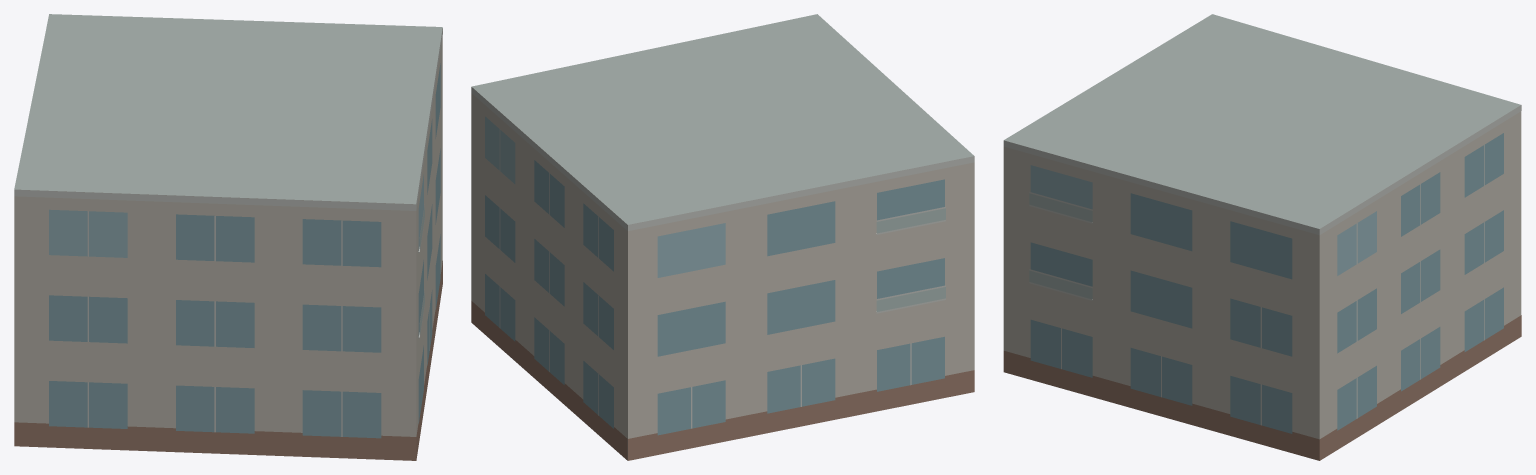
File: survey-upis-32774927.glb
3 renders of one model, left to right at view 1: azimuth 30°, elevation 25°; view 2: azimuth 150°, elevation 25°; view 3: azimuth 270°, elevation 25°, orthographic. The views are drawn at different scales.
Parts seen in each view (by area): view 1: survey-upis-32774927.tmp; view 2: survey-upis-32774927.tmp; view 3: survey-upis-32774927.tmp.
Boxes of the visible parts, x1,y1,x2,y2 form: survey-upis-32774927.tmp: (14, 14, 442, 460); survey-upis-32774927.tmp: (471, 14, 974, 460); survey-upis-32774927.tmp: (1003, 14, 1521, 460).
Size of the model in its own units: 18.22 by 9.15 by 18.53.
